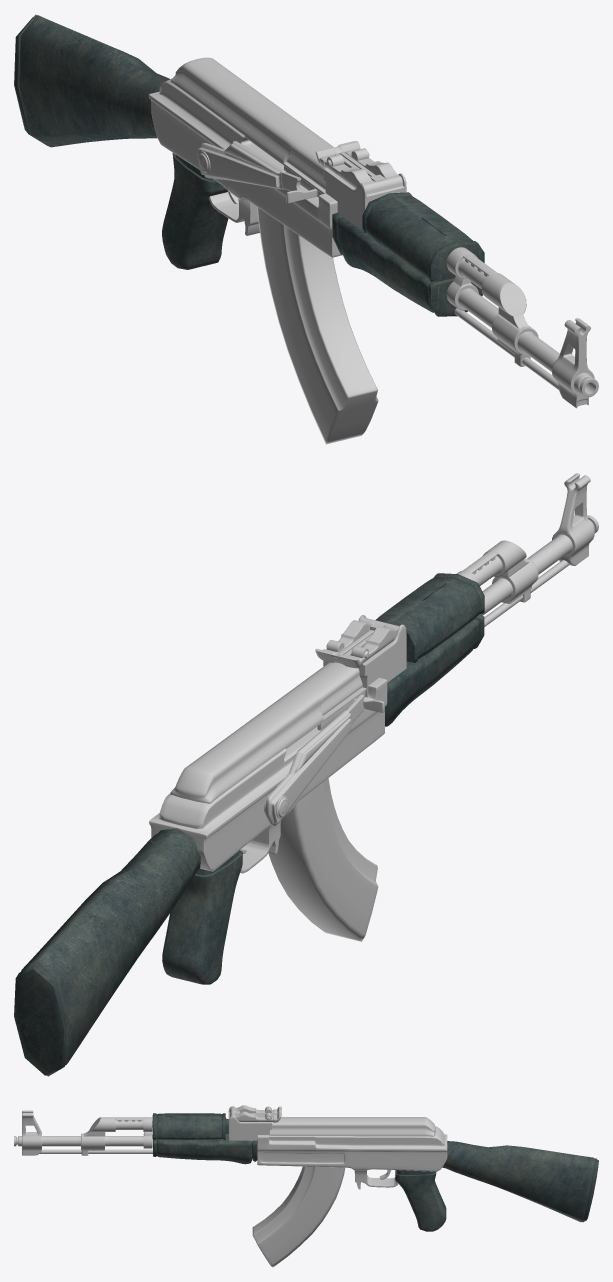
3 renders of one model, top to bottom at view 1: azimuth 30°, elevation 25°; view 2: azimuth 150°, elevation 25°; view 3: azimuth 270°, elevation 25°, orthographic. The views are drawn at different scales.
Parts seen in each view (by area): view 1: ak_47_part_24; view 2: ak_47_part_24; view 3: ak_47_part_24.
Boxes of the visible parts, x1,y1,x2,y2 form: ak_47_part_24: (14, 14, 598, 444); ak_47_part_24: (14, 473, 598, 1076); ak_47_part_24: (14, 1105, 598, 1267).
Size of the model in its own units: 7.53 by 27.07 by 93.64.
